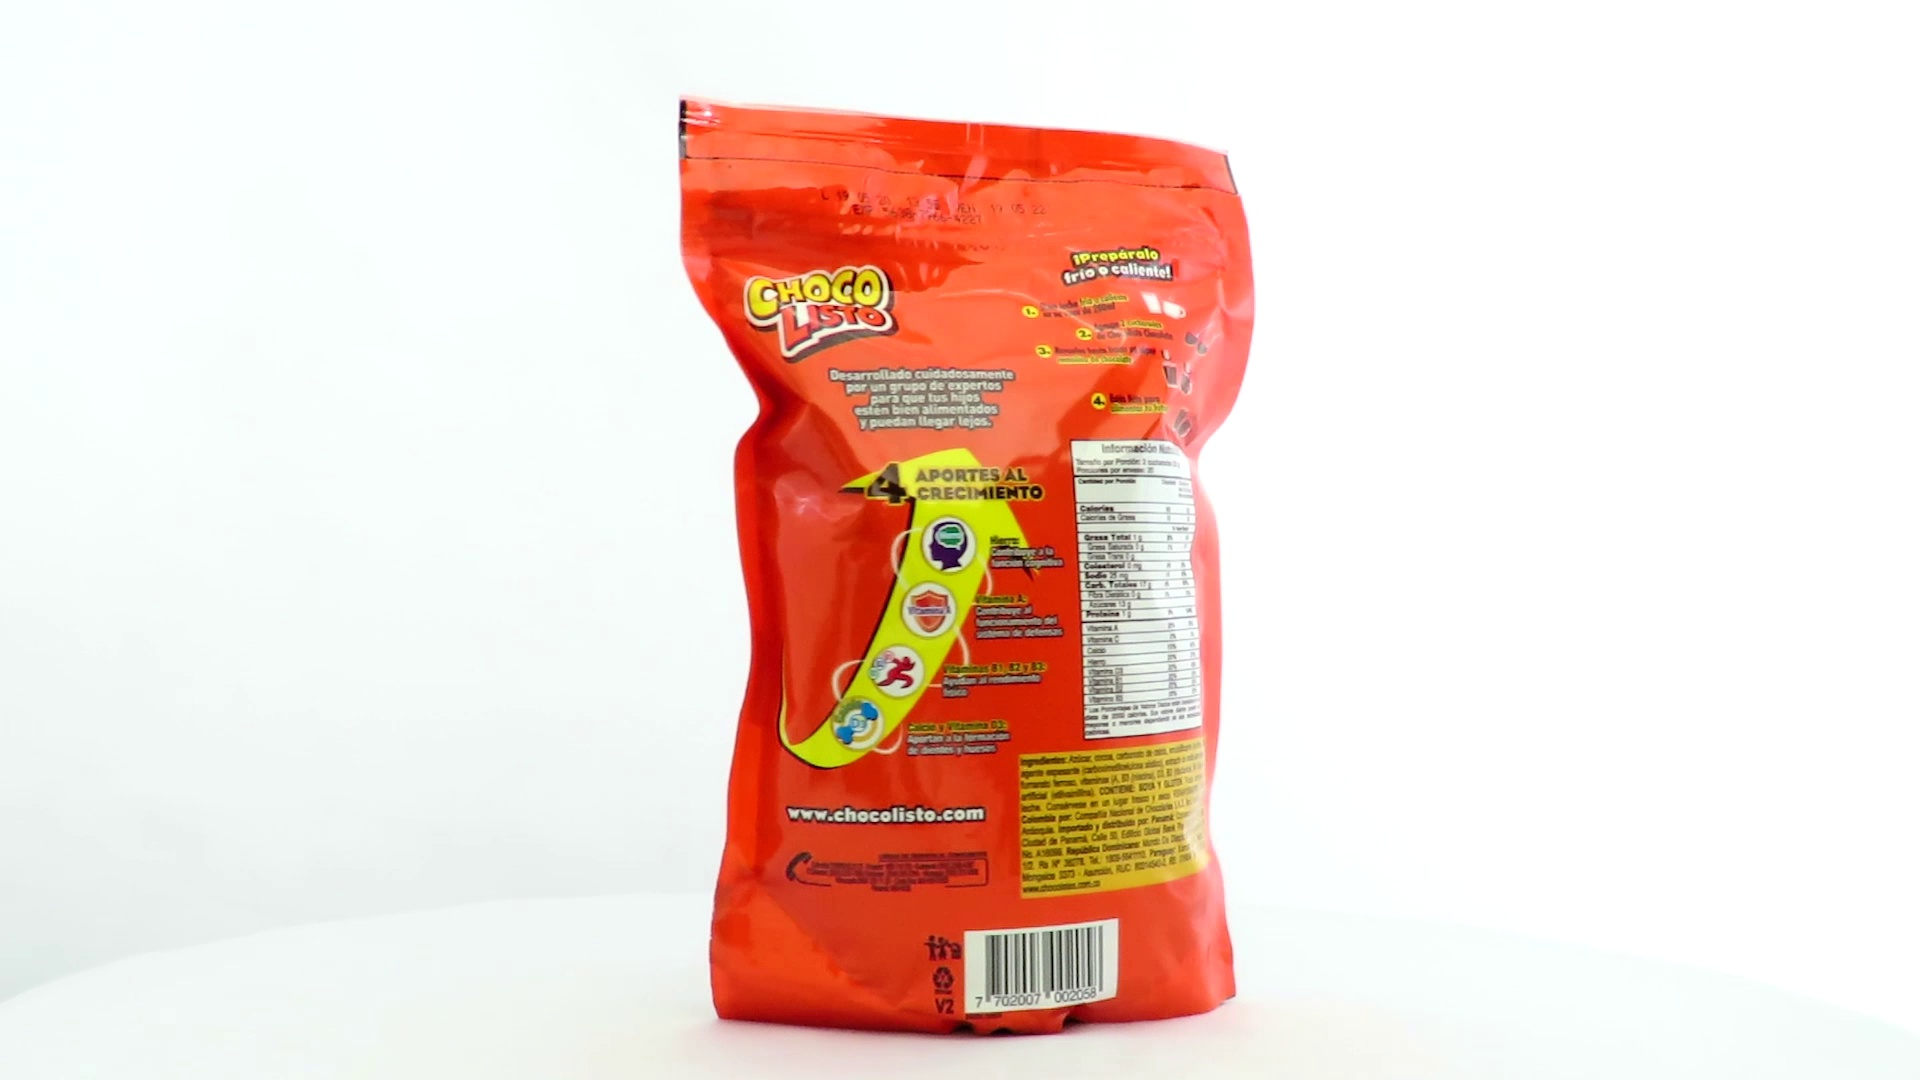COL0170103DYP40000: (673, 95, 1261, 1044)
